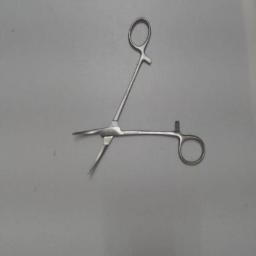Crile Artery Forceps: (68, 14, 208, 182)
